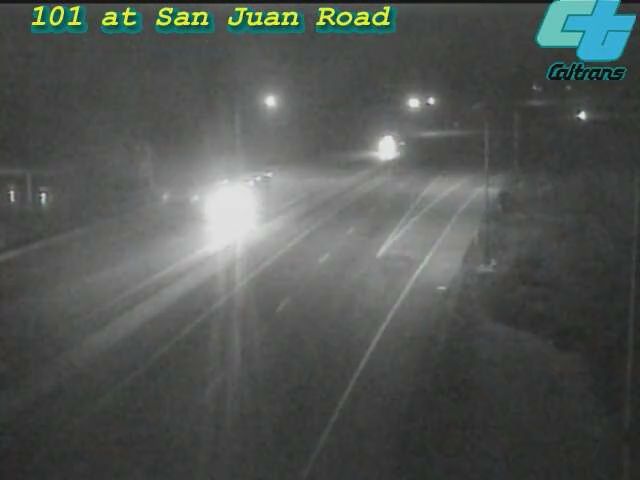vehicle: (203, 162, 283, 242), (363, 120, 413, 170), (558, 90, 608, 140)
